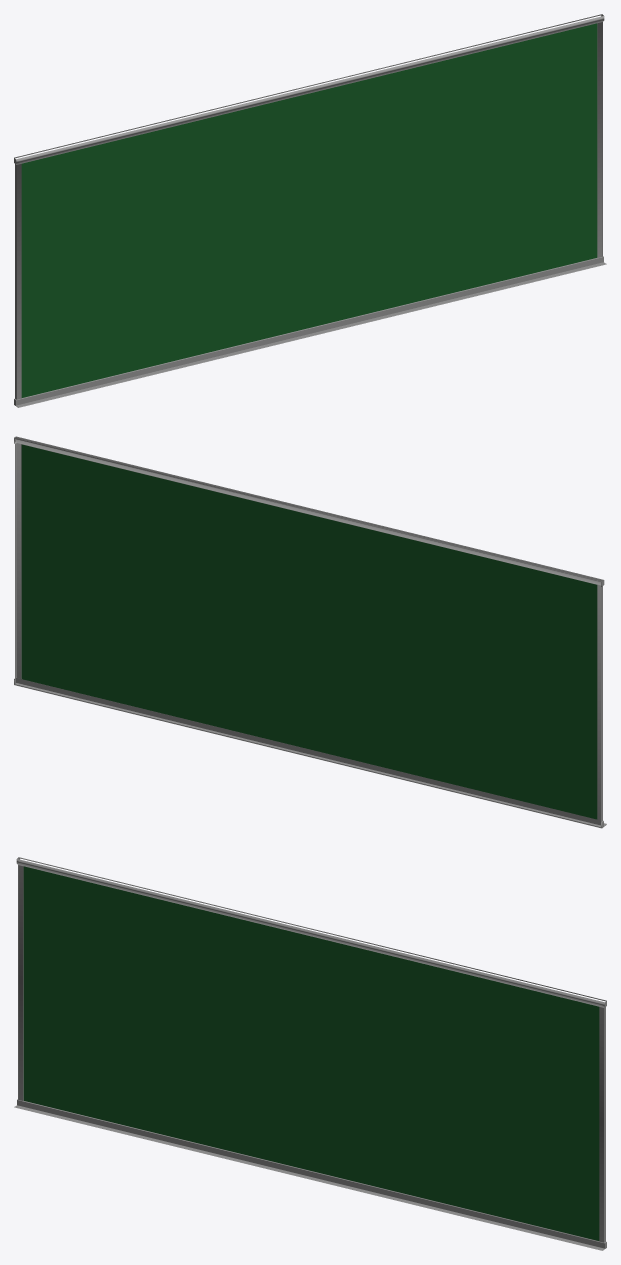
Rendered from Chalkboard.FBX.
3 renders of one model, top to bottom at view 1: azimuth 30°, elevation 25°; view 2: azimuth 150°, elevation 25°; view 3: azimuth 330°, elevation 25°, orthographic.
Parts seen in each view (by area): view 1: Box003; view 2: Box003; view 3: Box003.
Boxes of the visible parts, bbox=[...] form: Box003: bbox=[14, 14, 606, 407]; Box003: bbox=[14, 436, 606, 828]; Box003: bbox=[14, 857, 606, 1250].
Bounding box in the file's own units: 100 × 40.33 × 1.44.
